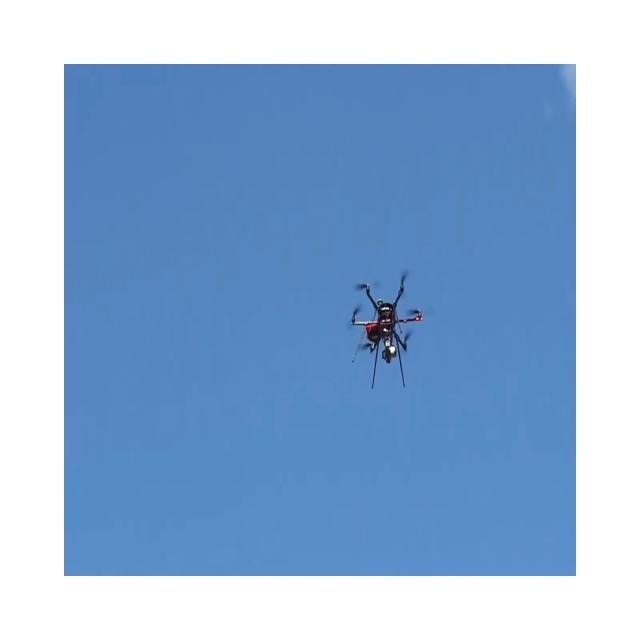drone: (350, 270, 423, 390)
